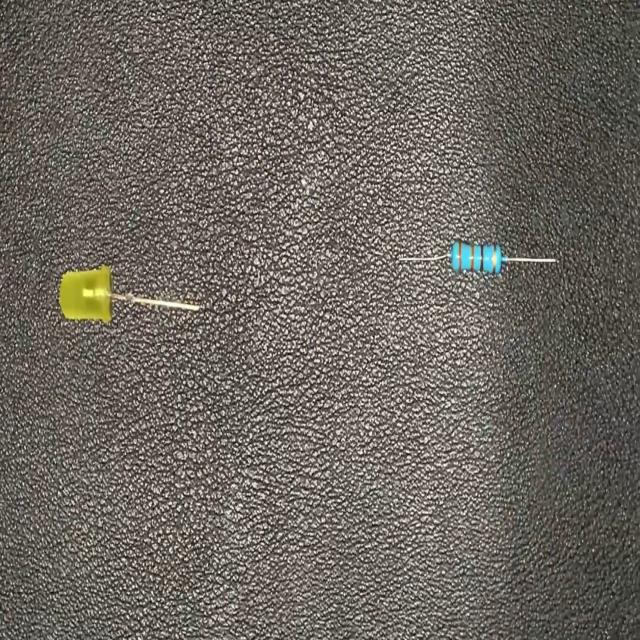missing-leg: (58, 262, 203, 327)
resistor: (395, 236, 558, 281)
